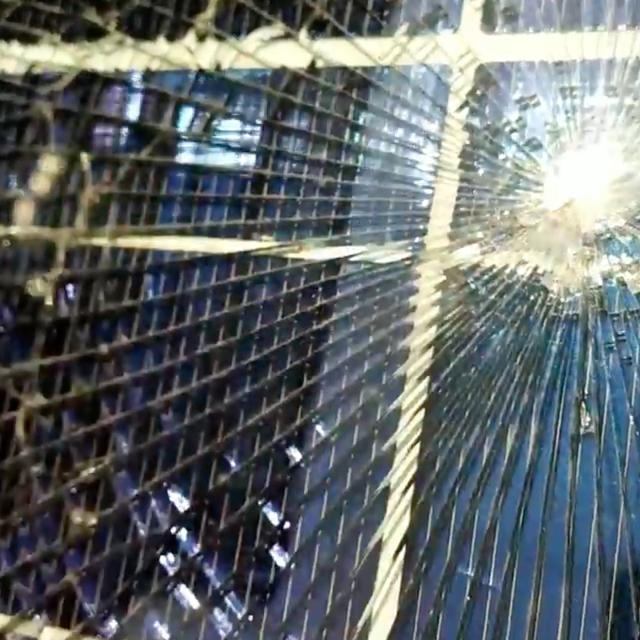Structural Damage: (343, 41, 640, 441)
